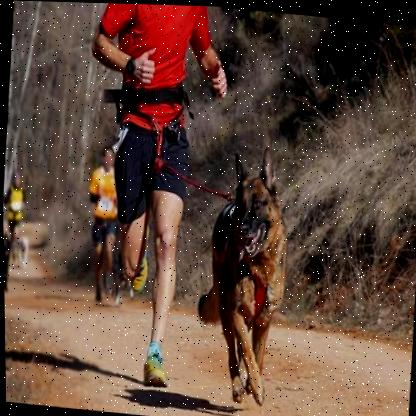dog: (201, 152, 310, 411), (3, 228, 18, 296)
person: (54, 2, 236, 398), (75, 138, 132, 311), (2, 167, 35, 239)
